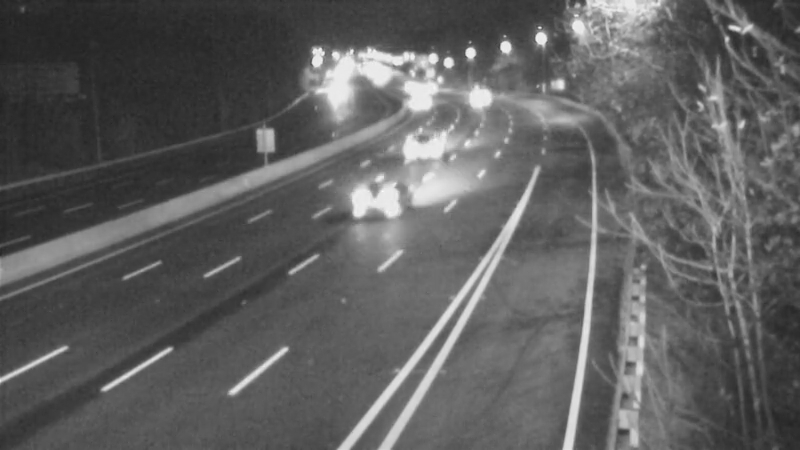vehicle: (337, 158, 417, 238), (453, 73, 503, 123), (392, 79, 442, 129), (402, 117, 452, 167)
